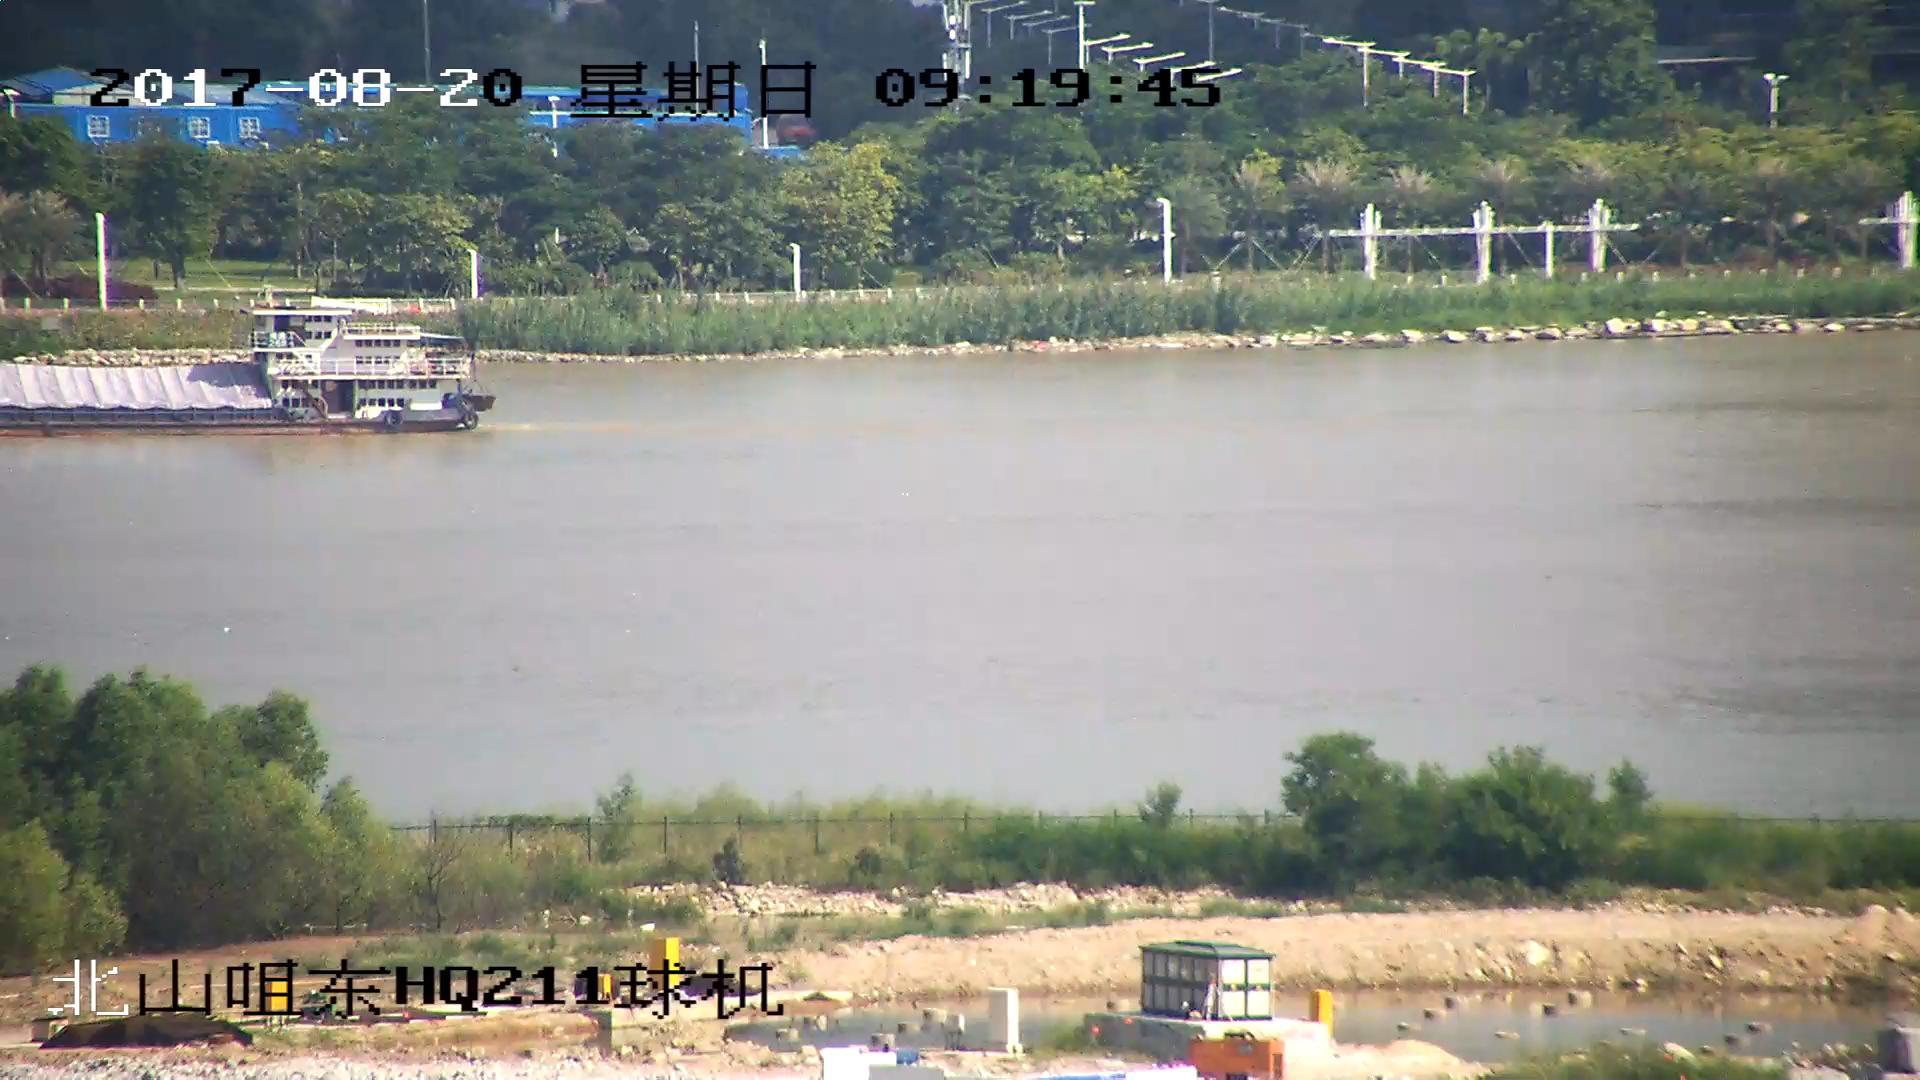Ship: (3, 297, 491, 436)
